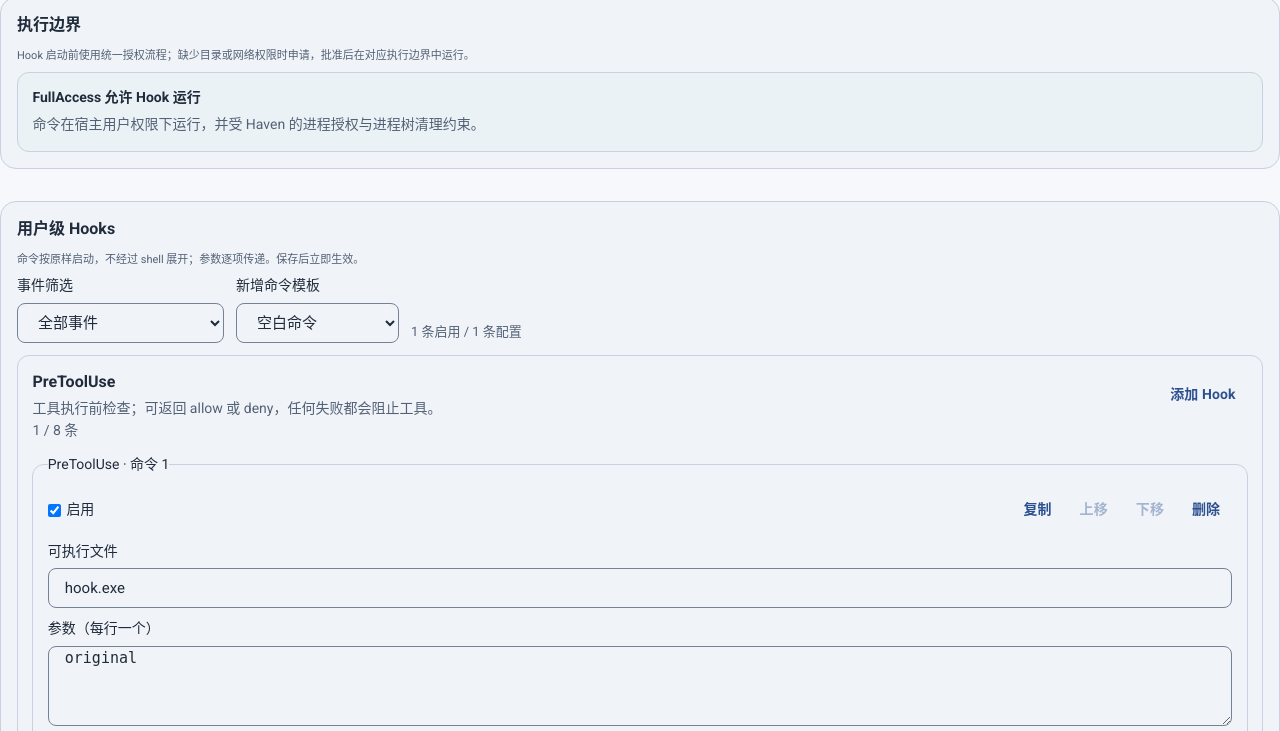
Test: SettingsHooks › disables without deleting, saves a plain snapshot, and restores discarded state
Click the checkbox labelled "启用": (54, 510) left=48, top=504, right=61, bottom=517
(page scrolled)
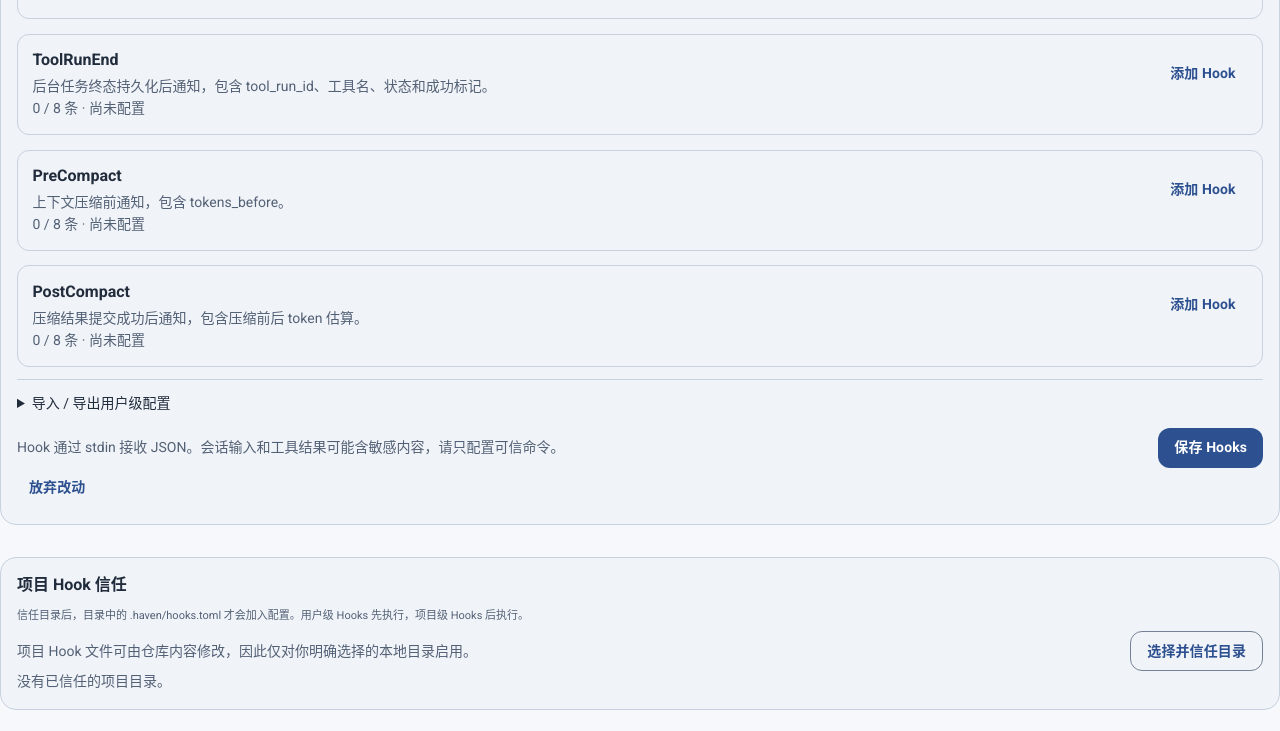
Click the button "保存 Hooks": (1211, 448) left=1158, top=428, right=1263, bottom=468
(page scrolled)
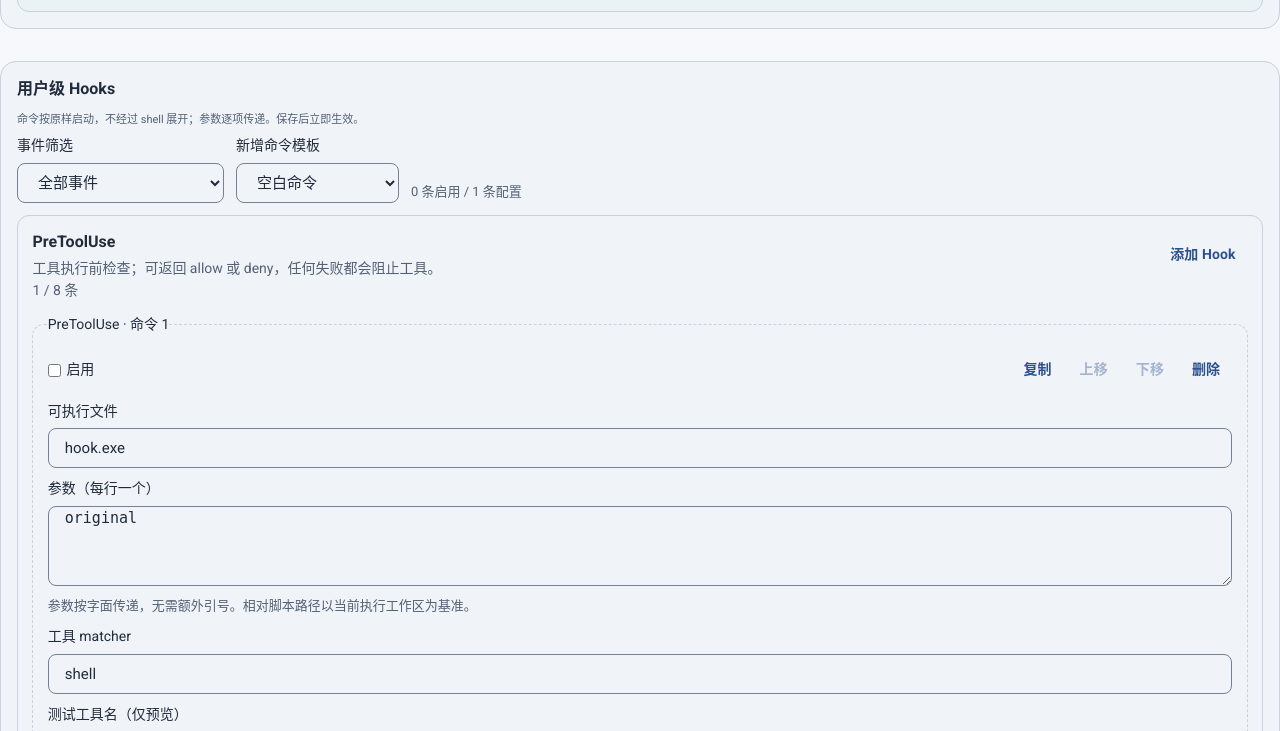
Replace the text in the field labelled "可执行文件" with "other.exe": (640, 448) left=48, top=428, right=1232, bottom=468
(page scrolled)
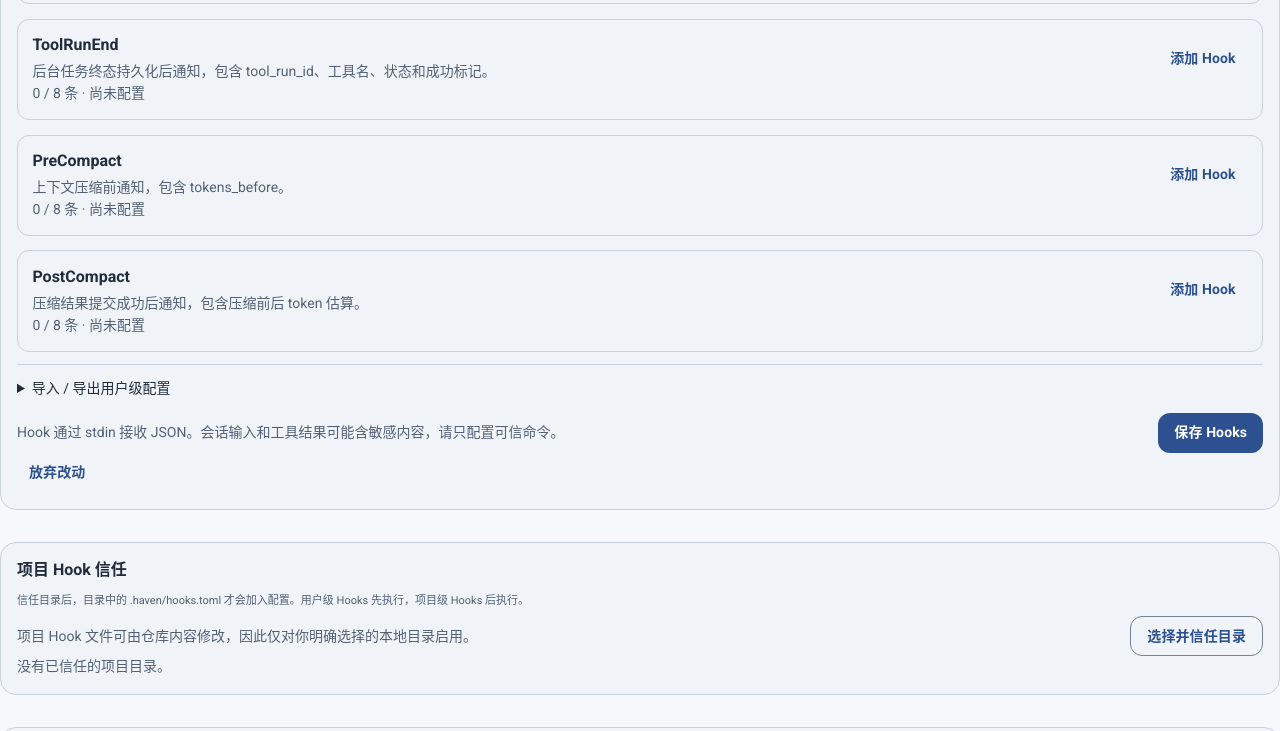
Click the button "放弃改动": (57, 473) left=17, top=453, right=97, bottom=493
(page scrolled)
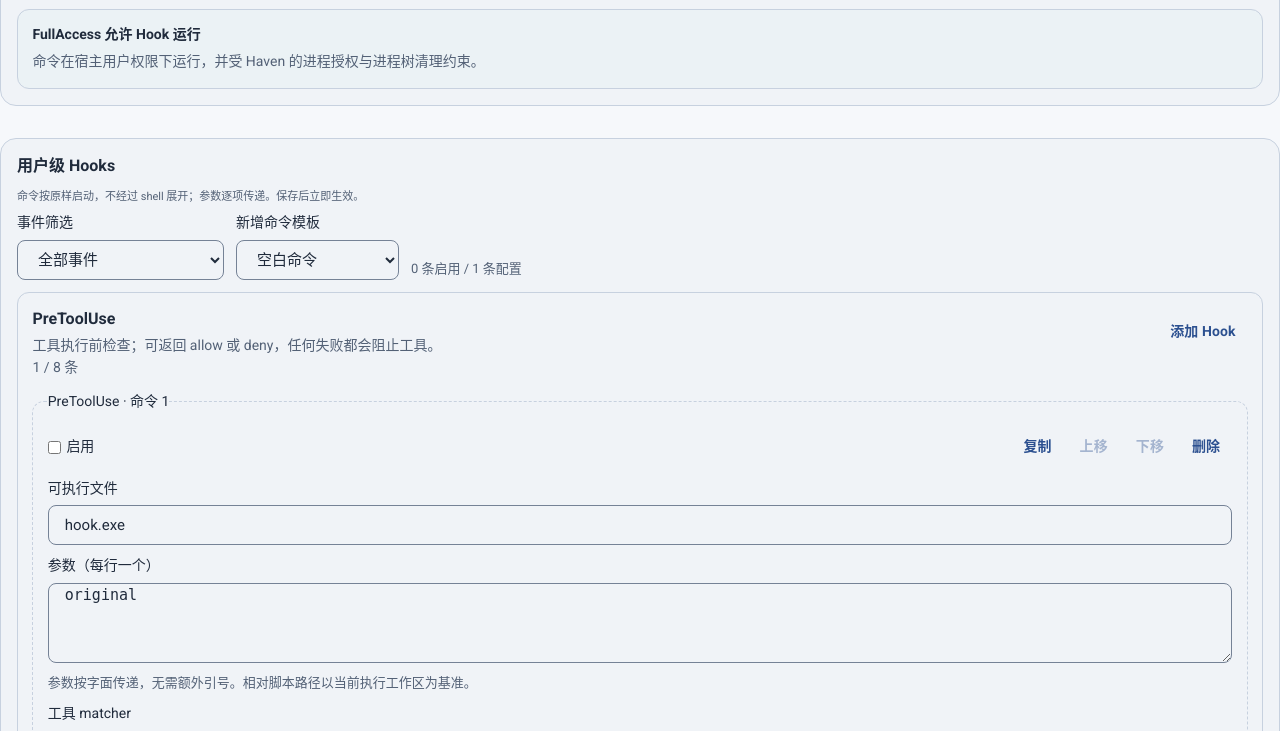
Expected: the checkbox labelled "启用" is not checked, left=48, top=441, right=61, bottom=454
Expected: the field labelled "可执行文件" holds "hook.exe", left=48, top=505, right=1232, bottom=545
